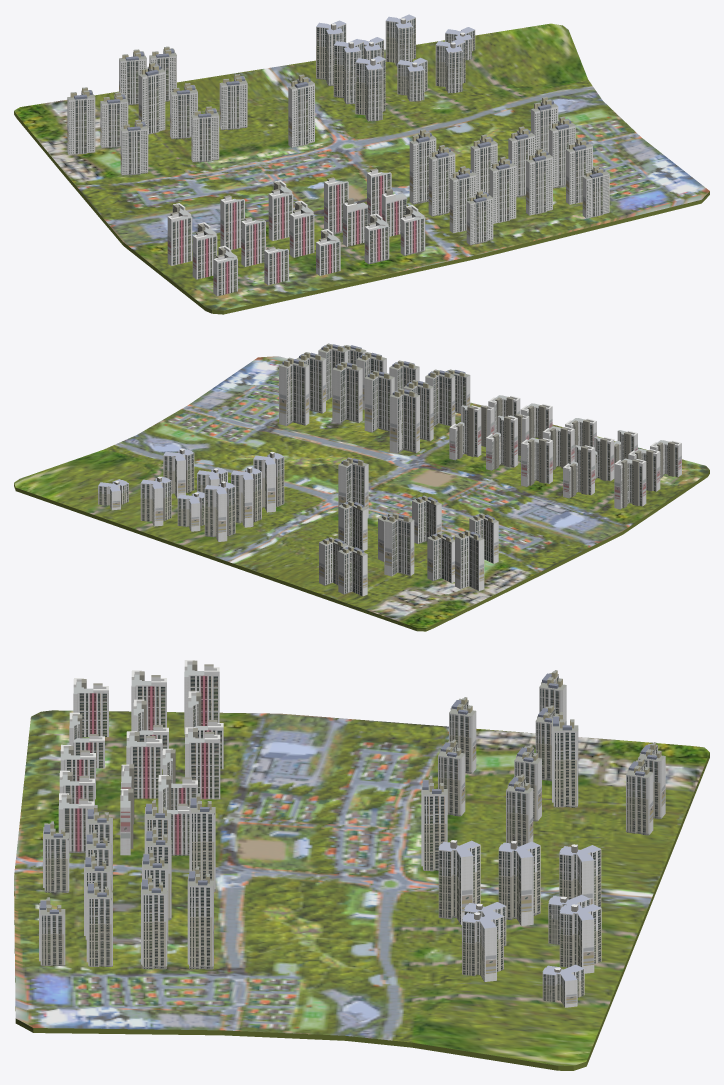
The model's file is ICJ00102_C.glb.
3 renders of one model, top to bottom at view 1: azimuth 30°, elevation 25°; view 2: azimuth 150°, elevation 25°; view 3: azimuth 270°, elevation 25°, orthographic. The views are drawn at different scales.
Visible parts, largest first — view 1: MainBuilding; view 2: MainBuilding; view 3: MainBuilding.
Part boxes in pixels (x1,y1,x2,y2): MainBuilding: (14, 14, 709, 314); MainBuilding: (14, 343, 709, 631); MainBuilding: (14, 660, 709, 1070).
Size of the model in its own units: 9.52 by 1.18 by 7.88.
Materials: 1 (1 with a texture image).
